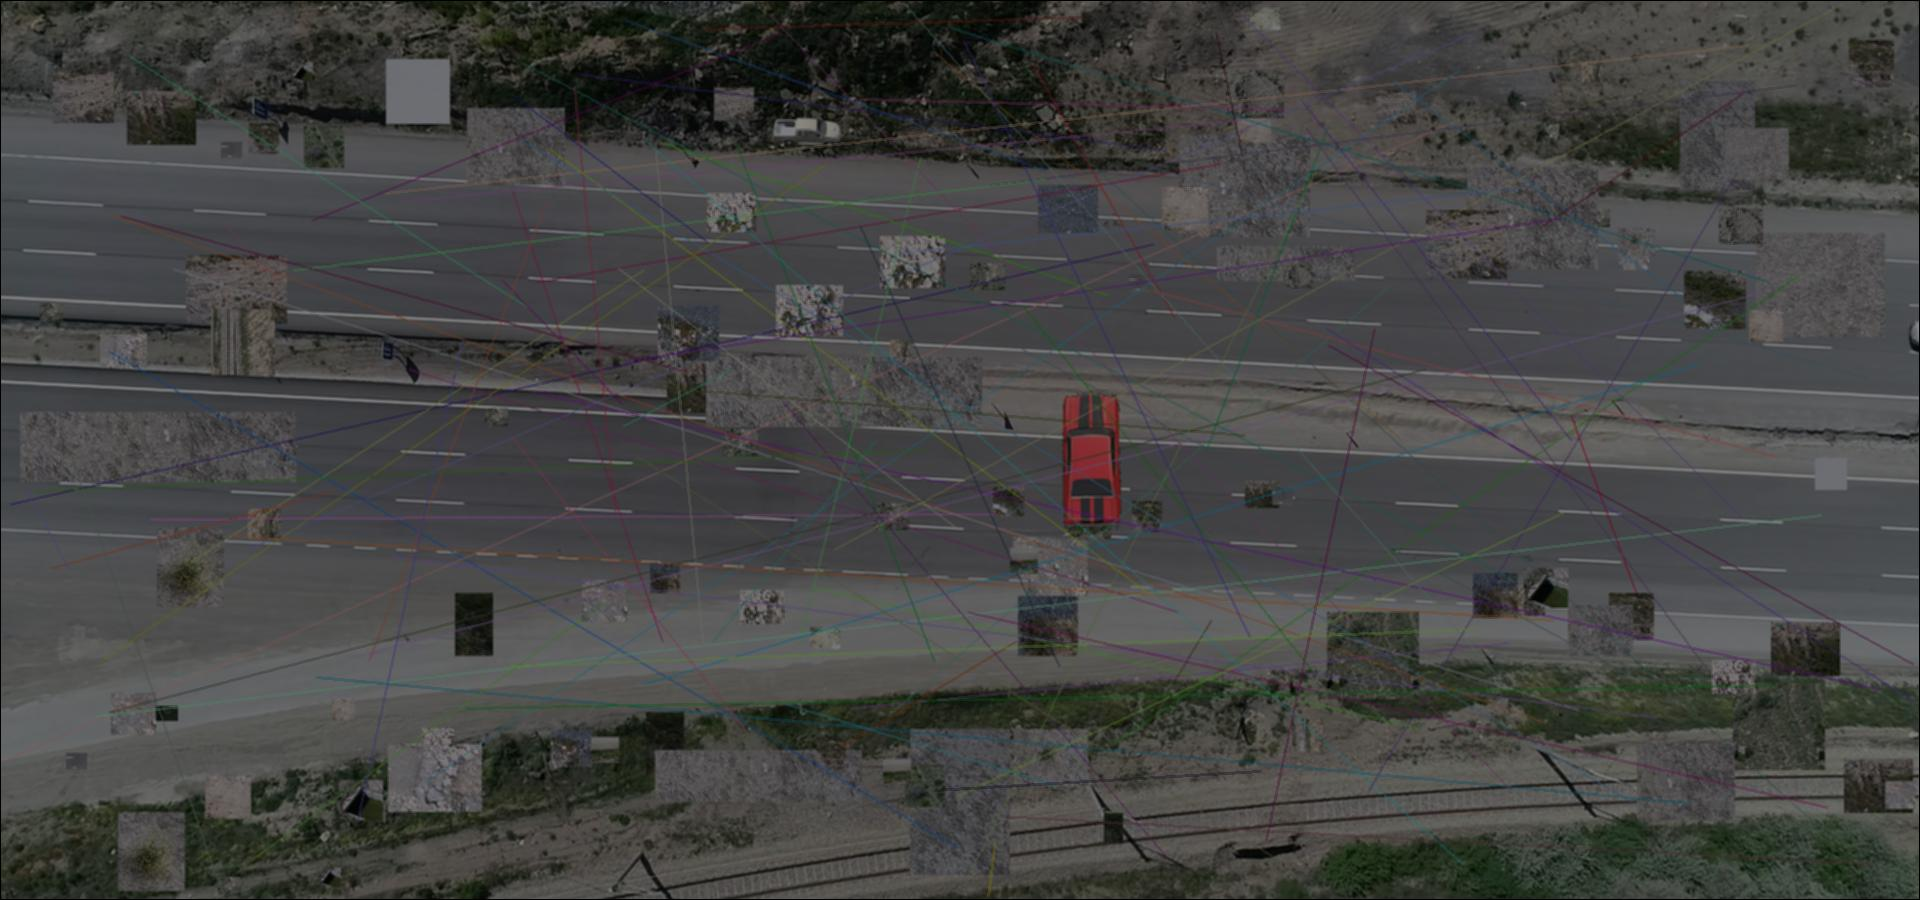arac: (1056, 389, 1125, 533), (770, 115, 842, 151)
